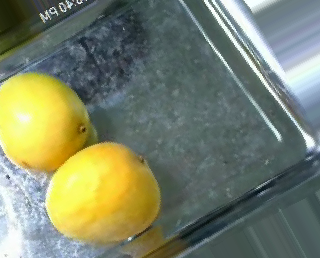Mango: (43, 143, 160, 243), (0, 73, 89, 173)
